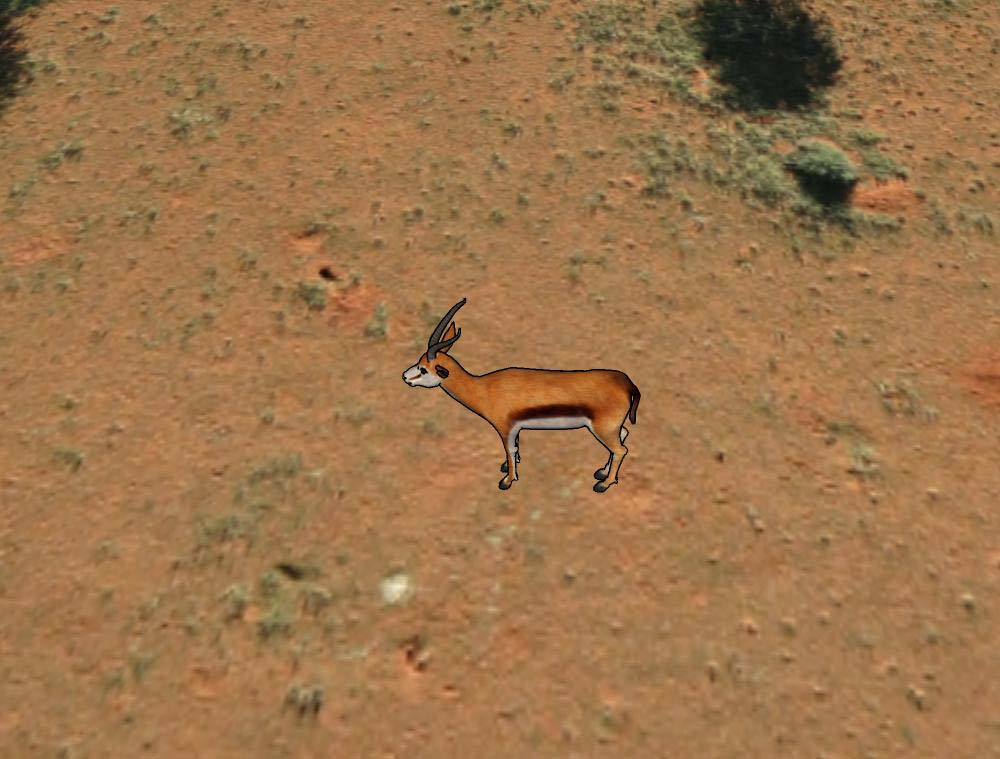springbok: (396, 297, 643, 503)
